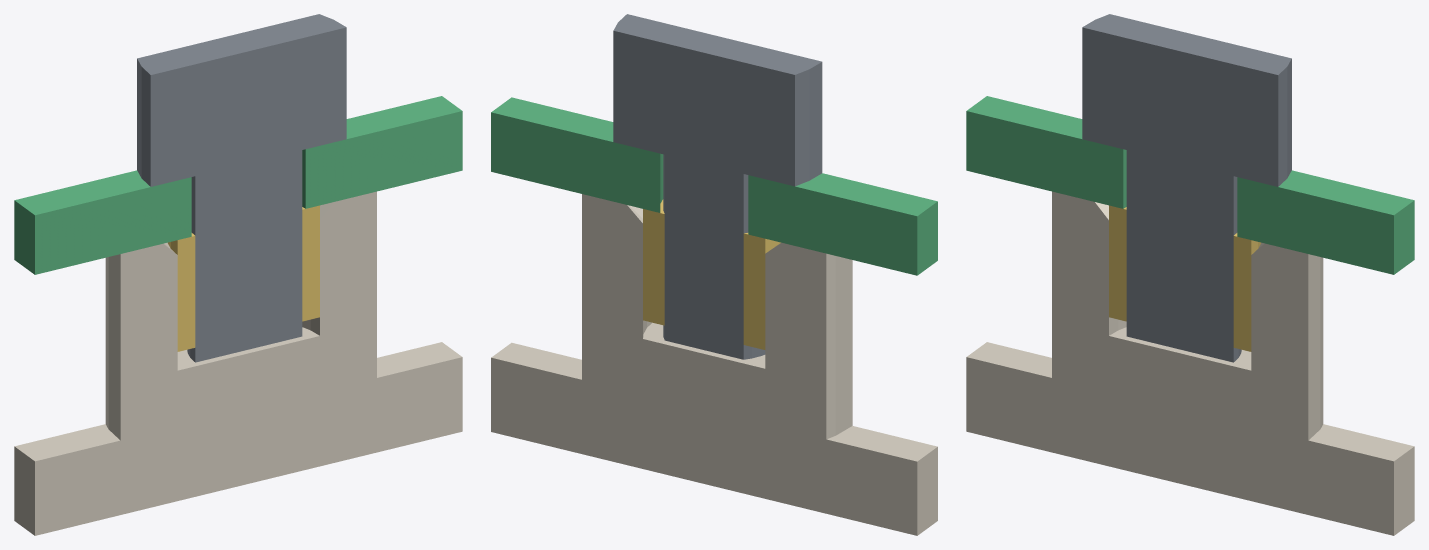
File: insert-and-screw-selected-jointly-feasible-counterpart.actual.glb
3 renders of one model, left to right at view 1: azimuth 30°, elevation 25°; view 2: azimuth 150°, elevation 25°; view 3: azimuth 330°, elevation 25°, orthographic.
Visible parts, largest first — view 1: base, EN1.H1.screw, board, EN1.H1.insert; view 2: base, EN1.H1.screw, board, EN1.H1.insert; view 3: base, EN1.H1.screw, board, EN1.H1.insert.
Part boxes in pixels (x1=…): base: x1=14, y1=191, x2=462, y2=535; EN1.H1.screw: x1=137, y1=14, x2=346, y2=362; board: x1=14, y1=96, x2=462, y2=274; EN1.H1.insert: x1=168, y1=205, x2=319, y2=351; base: x1=491, y1=194, x2=937, y2=535; EN1.H1.screw: x1=613, y1=14, x2=822, y2=359; board: x1=491, y1=97, x2=937, y2=275; EN1.H1.insert: x1=643, y1=199, x2=780, y2=349; base: x1=966, y1=191, x2=1414, y2=535; EN1.H1.screw: x1=1082, y1=14, x2=1291, y2=362; board: x1=966, y1=96, x2=1414, y2=274; EN1.H1.insert: x1=1109, y1=205, x2=1260, y2=351.
Bounding box in the file's own units: 12 × 11.6 × 1.
